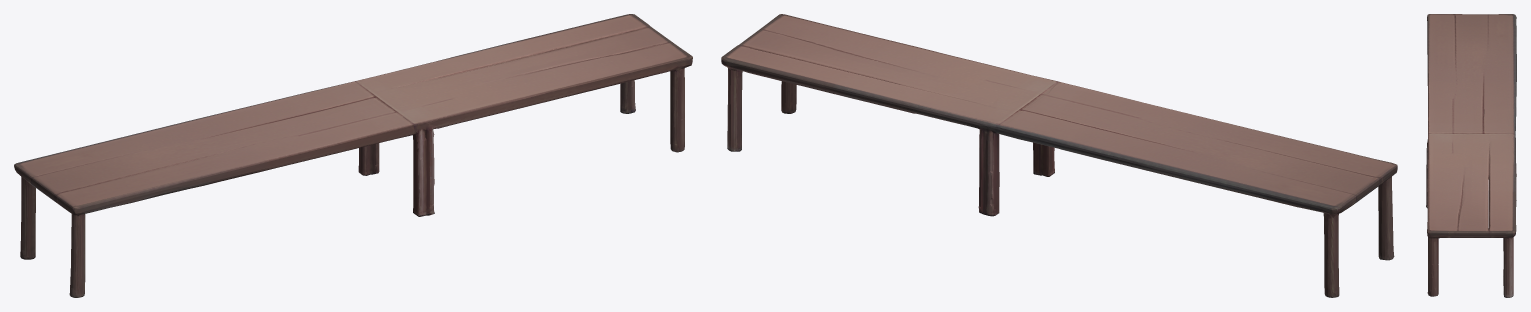
The model's file is Table.glb.
The picture shows the model from 3 angles, left to right: view 1: azimuth 30°, elevation 25°; view 2: azimuth 150°, elevation 25°; view 3: azimuth 270°, elevation 25°; orthographic projection. The views are drawn at different scales.
Visible parts, largest first — view 1: world; view 2: world; view 3: world.
Part boxes in pixels (x1,y1,x2,y2): world: [14, 14, 692, 297]; world: [721, 14, 1397, 297]; world: [1426, 14, 1516, 297].
Bounding box in the file's own units: 1 × 0.145 × 0.1753.
Materials: 1 (1 with a texture image).
